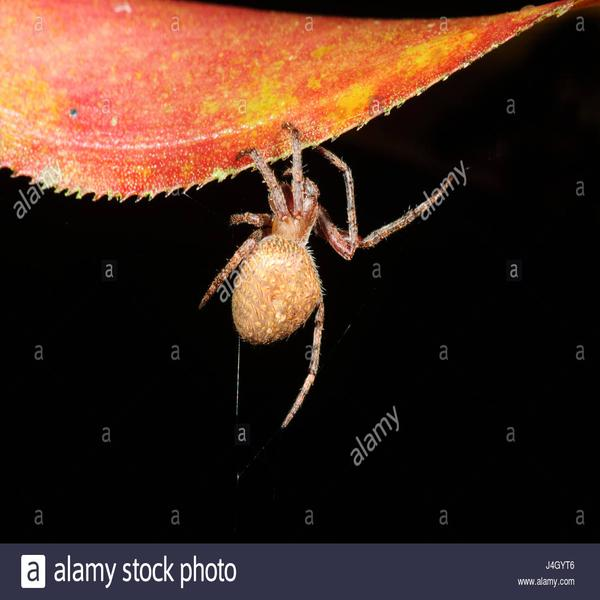Garden Orb Weaver Spider: (210, 133, 447, 419)
